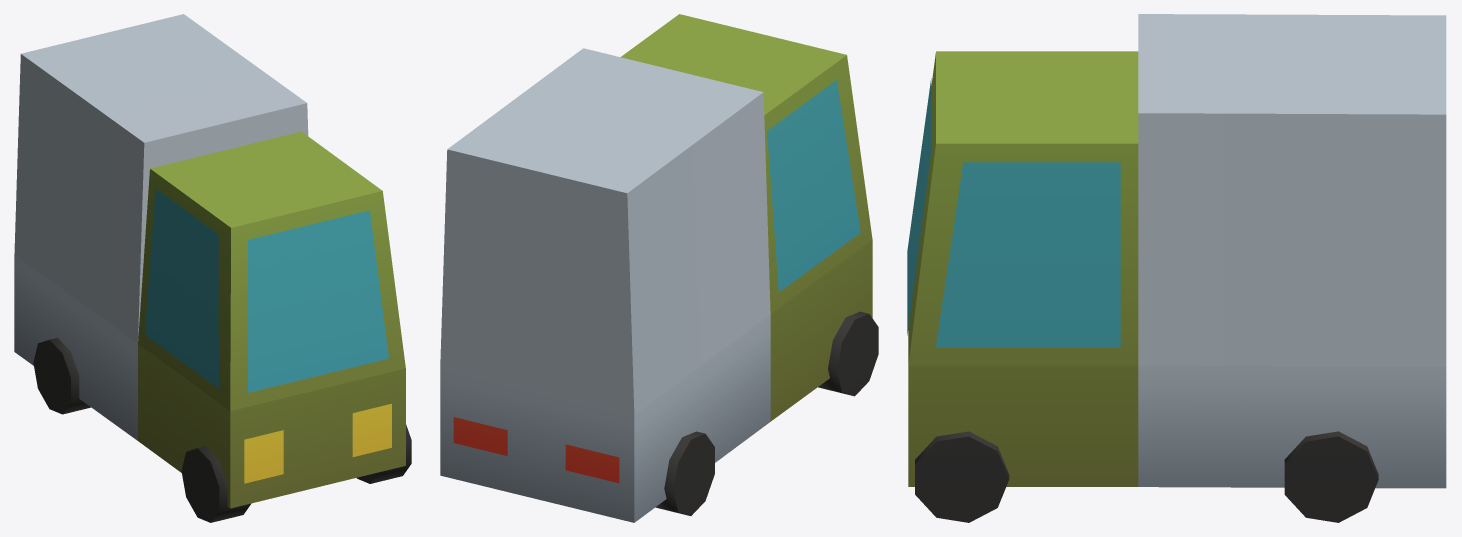
File: Car_6_3.fbx
The picture shows the model from 3 angles, left to right: view 1: azimuth 30°, elevation 25°; view 2: azimuth 150°, elevation 25°; view 3: azimuth 270°, elevation 25°; orthographic projection. The views are drawn at different scales.
Parts seen in each view (by area): view 1: Car_6_3; view 2: Car_6_3; view 3: Car_6_3.
Boxes of the visible parts, x1=… form: Car_6_3: x1=14, y1=14, x2=411, y2=522; Car_6_3: x1=440, y1=14, x2=878, y2=522; Car_6_3: x1=907, y1=14, x2=1446, y2=522.
Size of the model in its own units: 211 by 337 by 412.
